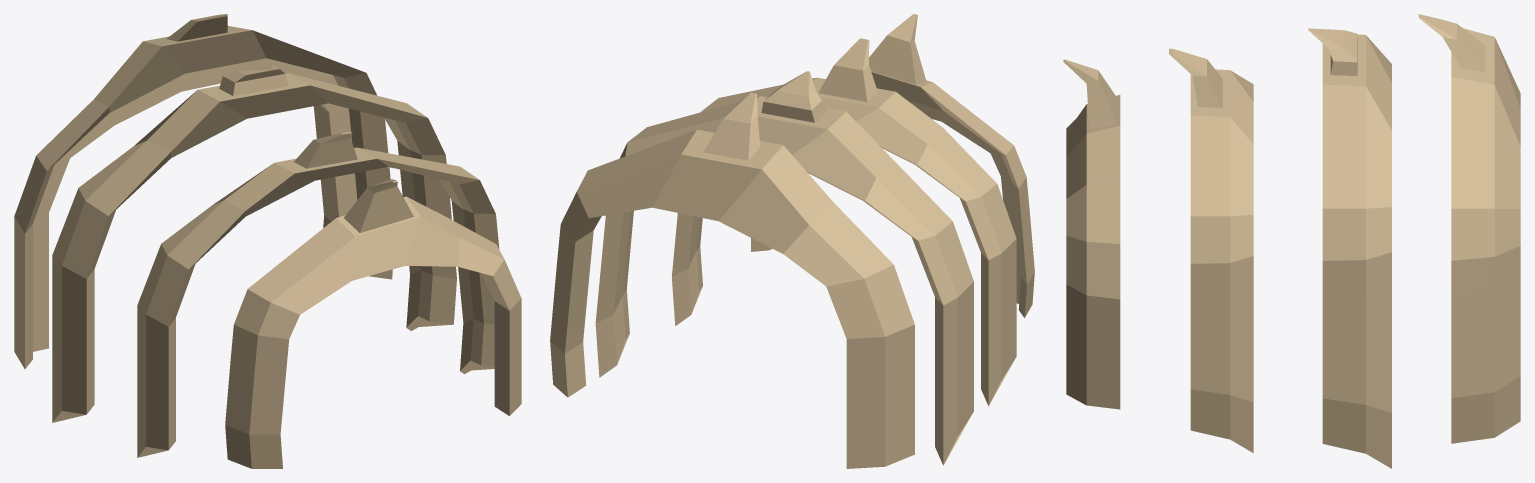
The model's file is DesertItem2.fbx.
3 views of the same model, side by side, from view 1: azimuth 30°, elevation 25°; view 2: azimuth 150°, elevation 25°; view 3: azimuth 270°, elevation 25° (orthographic). The views are drawn at different scales.
Parts seen in each view (by area): view 1: Cube.003_Cube.005; view 2: Cube.003_Cube.005; view 3: Cube.003_Cube.005.
Part boxes in pixels (box(x1,y1,x2,y2)): Cube.003_Cube.005: box(14, 14, 521, 468); Cube.003_Cube.005: box(550, 14, 1034, 468); Cube.003_Cube.005: box(1063, 14, 1520, 468).
Size of the model in its own units: 154 by 139 by 156.
